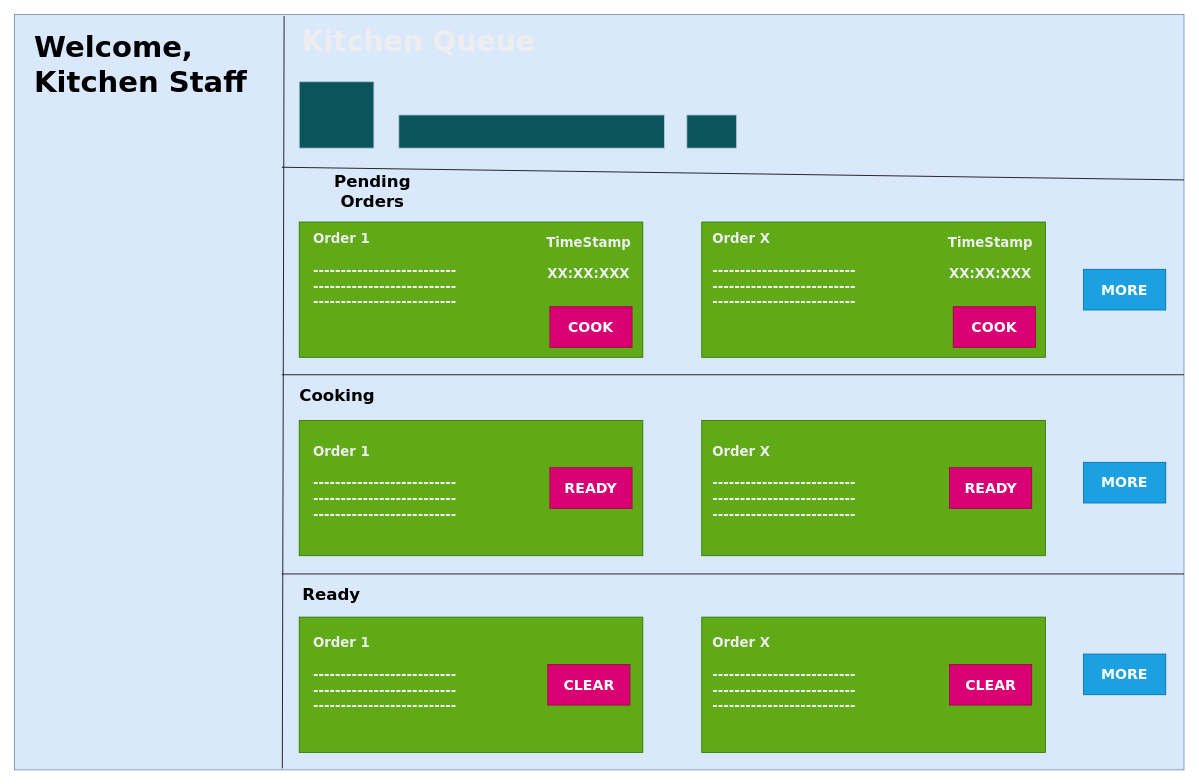
Image size: 1199x784. Some labels were removed from this diagram. Here are the shapes that lost their labels. From the top down, the box of each, then its label:
(298, 81, 374, 148): LOGO
(398, 114, 664, 148): Search
(686, 114, 737, 148): Filter
